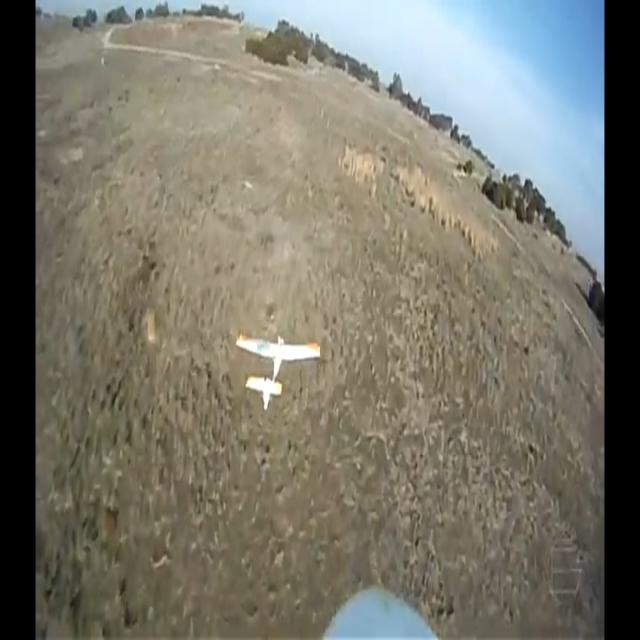iha: (267, 359, 290, 381)
